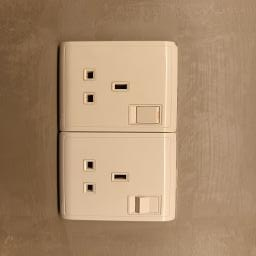outlet: (52, 39, 181, 132), (52, 132, 182, 223)
